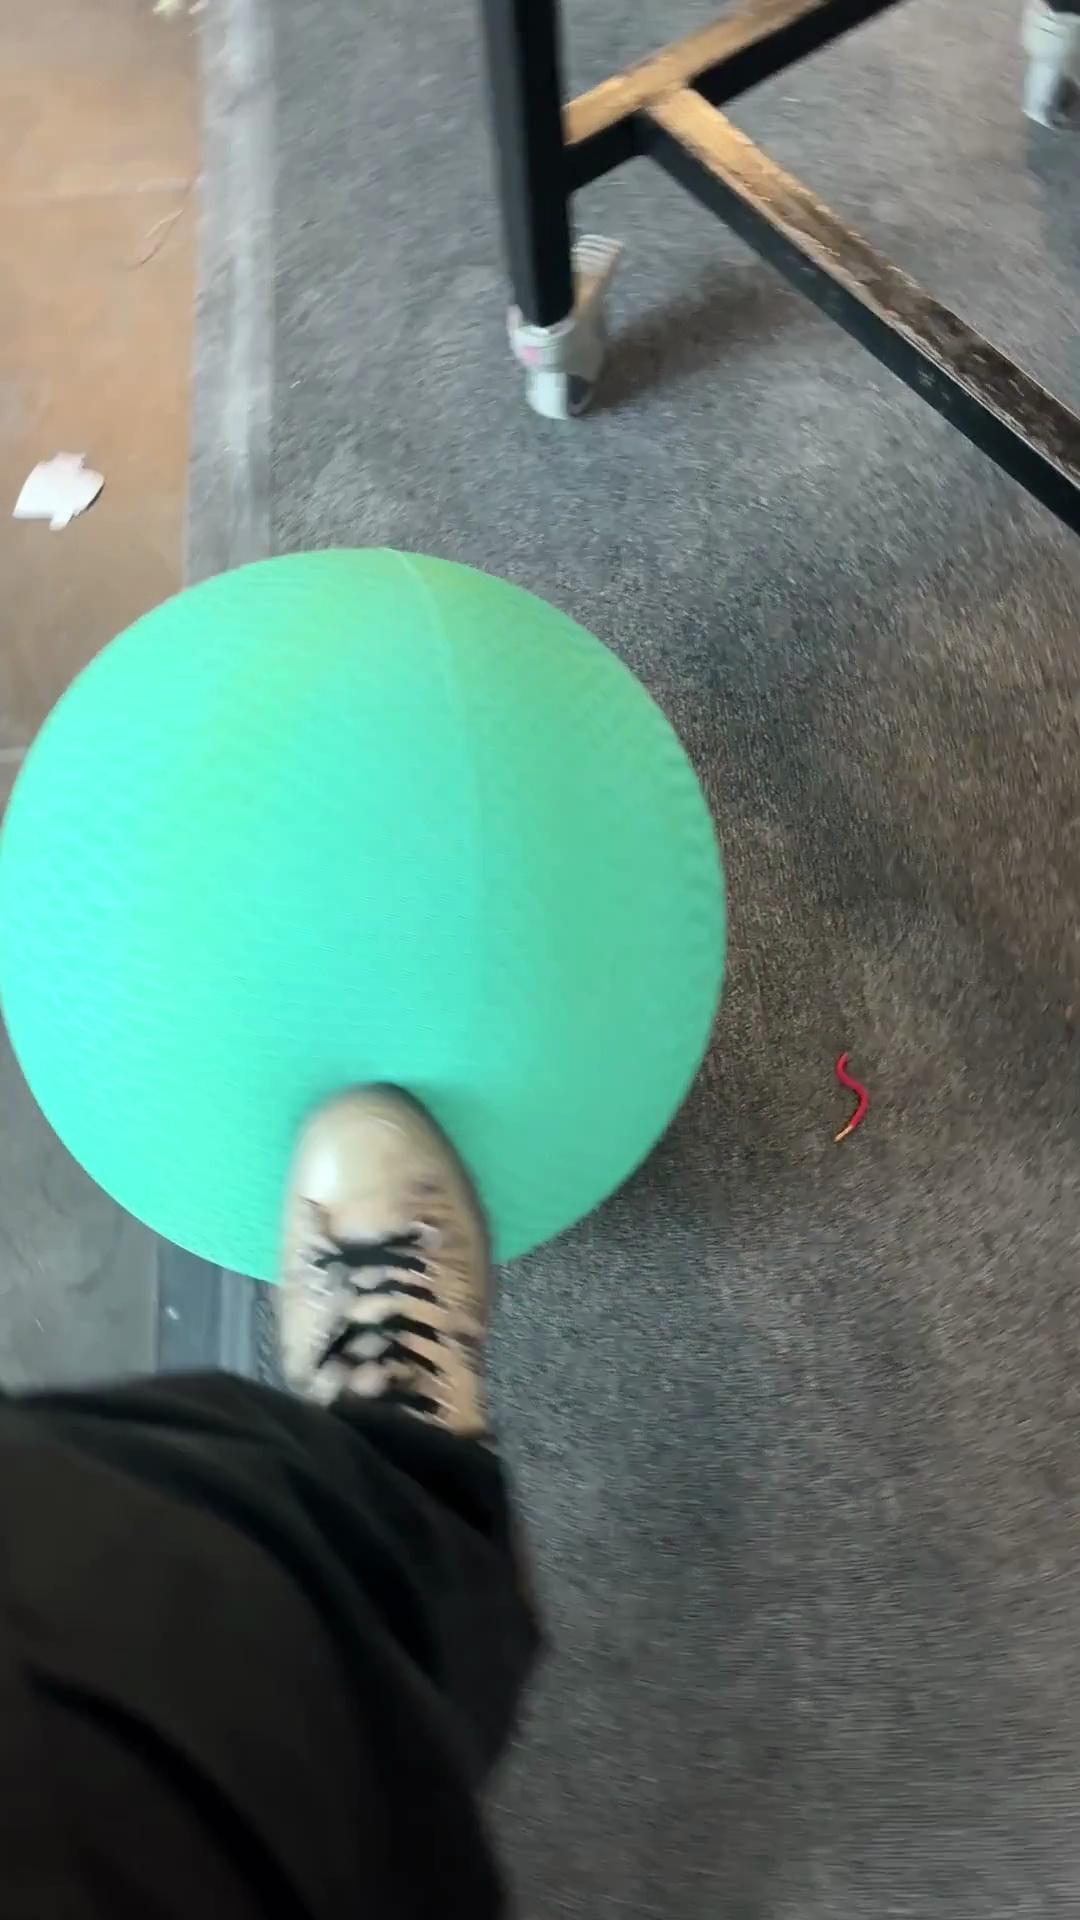ALGAE: (1, 543, 729, 1287)
